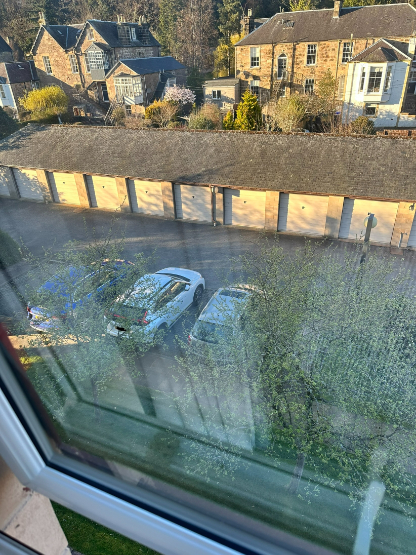car: (182, 281, 280, 367), (26, 250, 127, 333), (110, 268, 206, 352)
